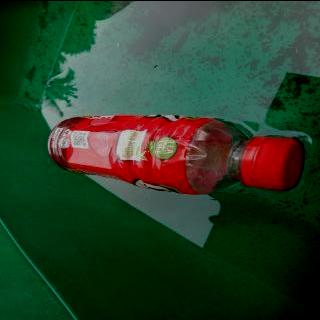bottle: (47, 114, 306, 194)
